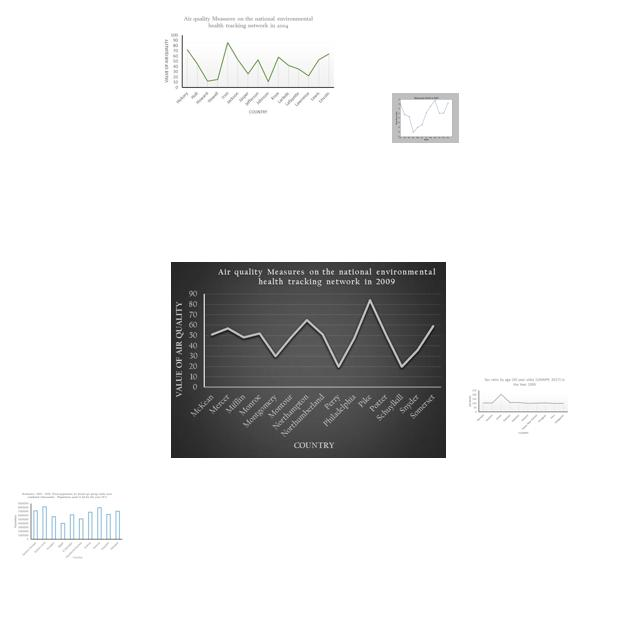Graph: (171, 262, 446, 458), (160, 12, 338, 119), (10, 491, 124, 559), (466, 376, 570, 435), (392, 93, 459, 143)
